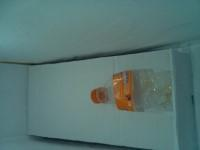bottle: (90, 69, 174, 112)
